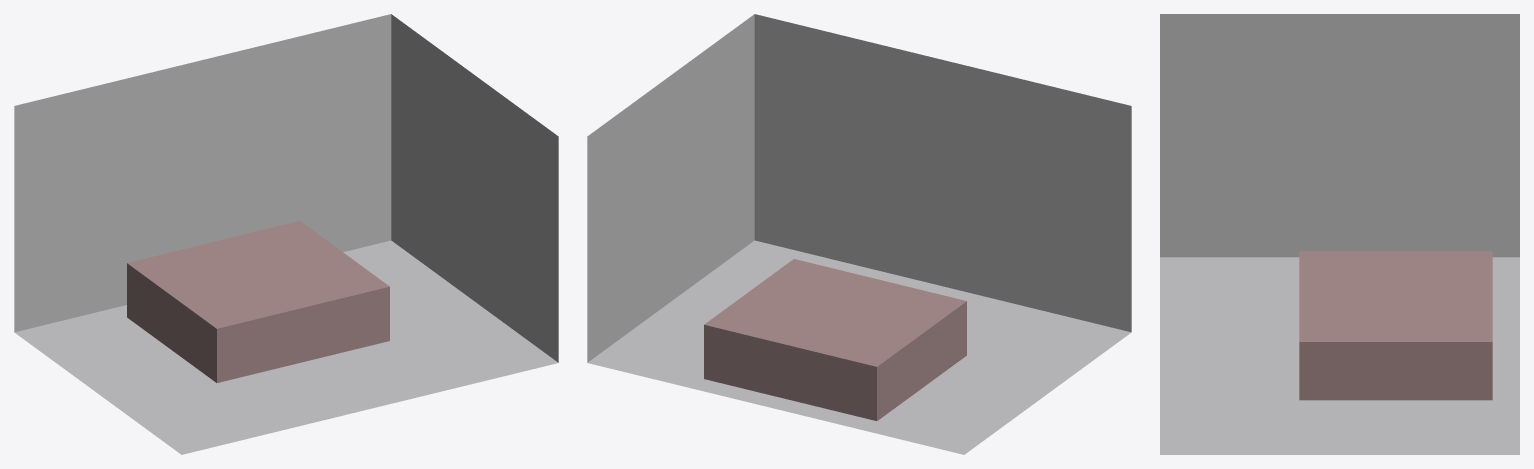
The model's file is optimised_layout.glb.
The picture shows the model from 3 angles, left to right: view 1: azimuth 30°, elevation 25°; view 2: azimuth 150°, elevation 25°; view 3: azimuth 270°, elevation 25°; orthographic projection. The views are drawn at different scales.
Visible parts, largest first — view 1: room, bed; view 2: room, bed; view 3: room, bed.
Part boxes in pixels (x1,y1,x2,y2): room: (14, 14, 558, 454); bed: (127, 221, 389, 382); room: (587, 14, 1131, 454); bed: (704, 259, 966, 420); room: (1160, 14, 1519, 454); bed: (1299, 251, 1492, 400).
Size of the model in its own units: 4.36 by 2.5 by 3.35.
